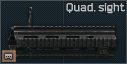HK 416A5 Quad Rail handguard with flip up front sight: (0, 0, 127, 64)
